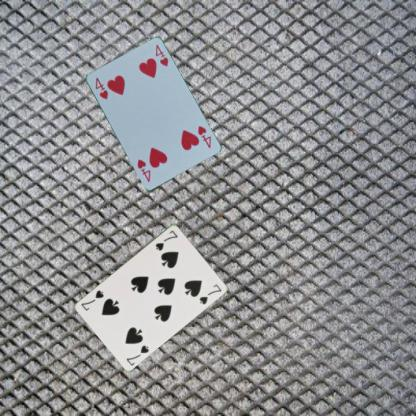4h: (92, 74, 110, 100), (195, 123, 212, 150)
7s: (153, 227, 179, 252), (124, 342, 150, 367)
